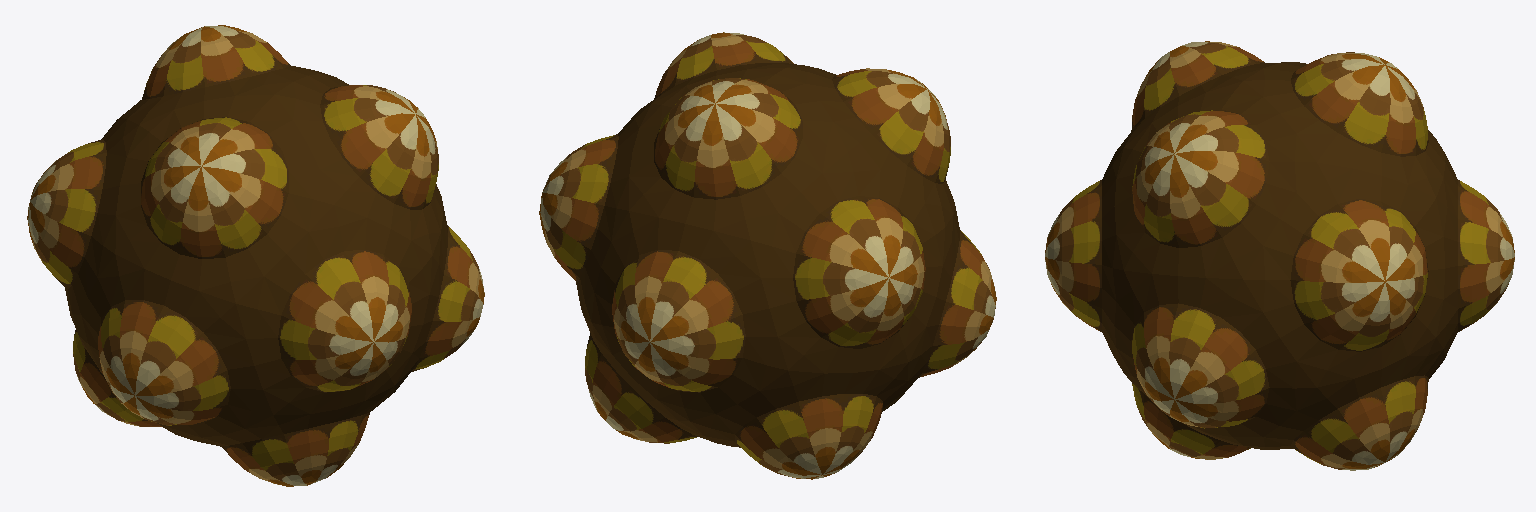
The picture shows the model from 3 angles: view 1: azimuth 30°, elevation 25°; view 2: azimuth 150°, elevation 25°; view 3: azimuth 270°, elevation 25°; orthographic projection.
Visible parts, largest first — view 1: core_17_0; view 2: core_17_0; view 3: core_17_0.
Part boxes in pixels (left/top/right/bottom): core_17_0: left=27, top=25, right=484, bottom=486; core_17_0: left=539, top=32, right=996, bottom=479; core_17_0: left=1045, top=41, right=1514, bottom=470.
Size of the model in its own units: 0.0478 by 0.0494 by 0.0537.
Materials: 1 (1 with a texture image).